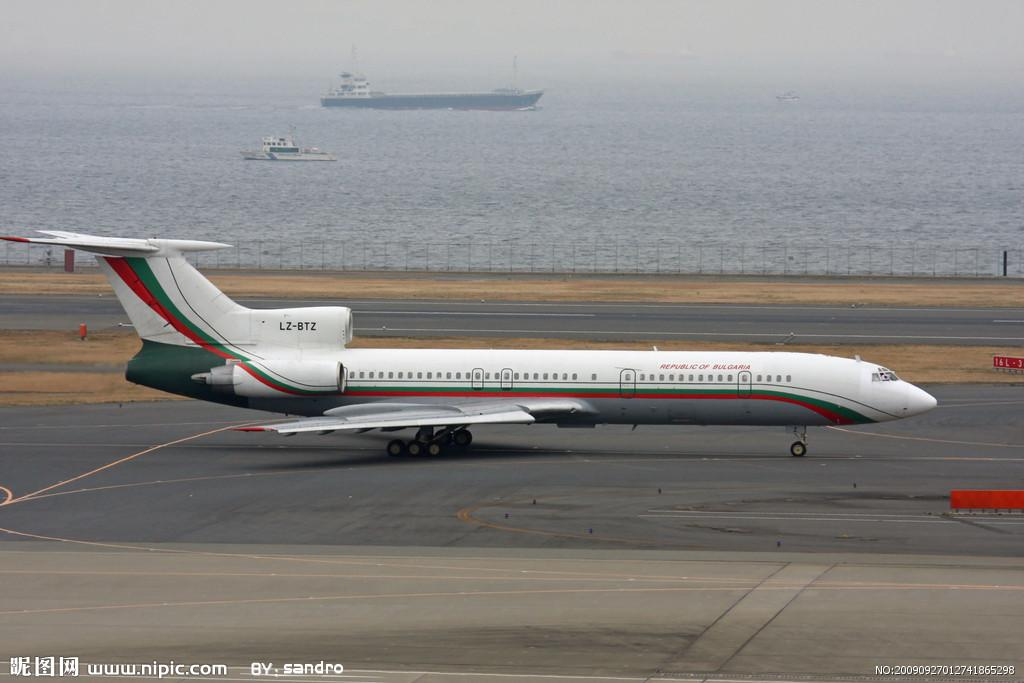airplane: (2, 221, 948, 461)
